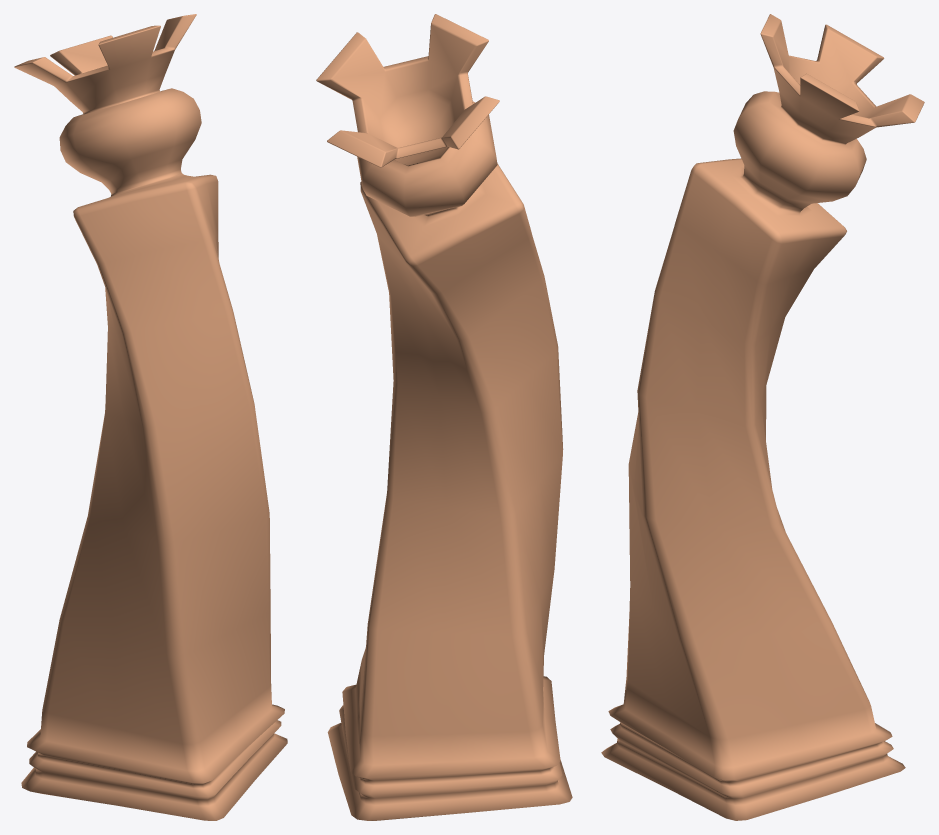
File: Reina.fbx
3 renders of one model, left to right at view 1: azimuth 30°, elevation 25°; view 2: azimuth 150°, elevation 25°; view 3: azimuth 270°, elevation 25°, orthographic. The views are drawn at different scales.
Visible parts, largest first — view 1: Reina.002; view 2: Reina.002; view 3: Reina.002.
Part boxes in pixels (box(x1,y1,x2,y2)): Reina.002: box(14, 14, 287, 820); Reina.002: box(316, 14, 572, 820); Reina.002: box(601, 14, 924, 820).
Size of the model in its own units: 88.13 by 251 by 99.22.
